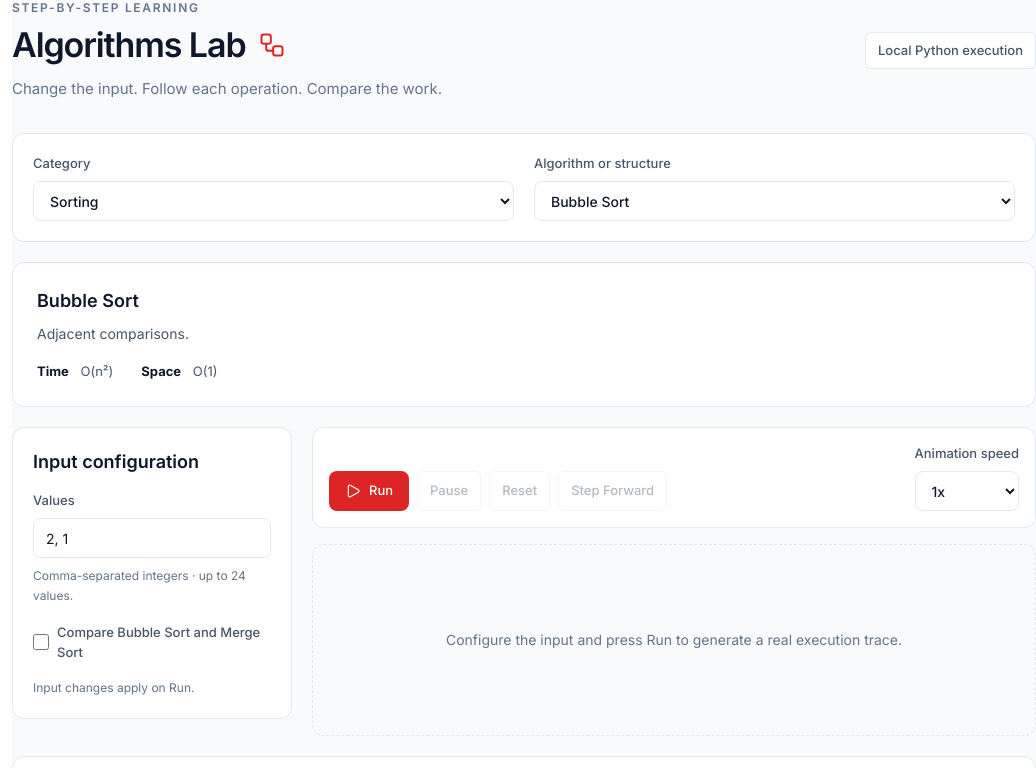
Test: invalid custom inputs do not execute and API errors support retry
Replace the text in the field labelled "Values" with "1, oops" at (152, 538), box [33, 518, 271, 558]
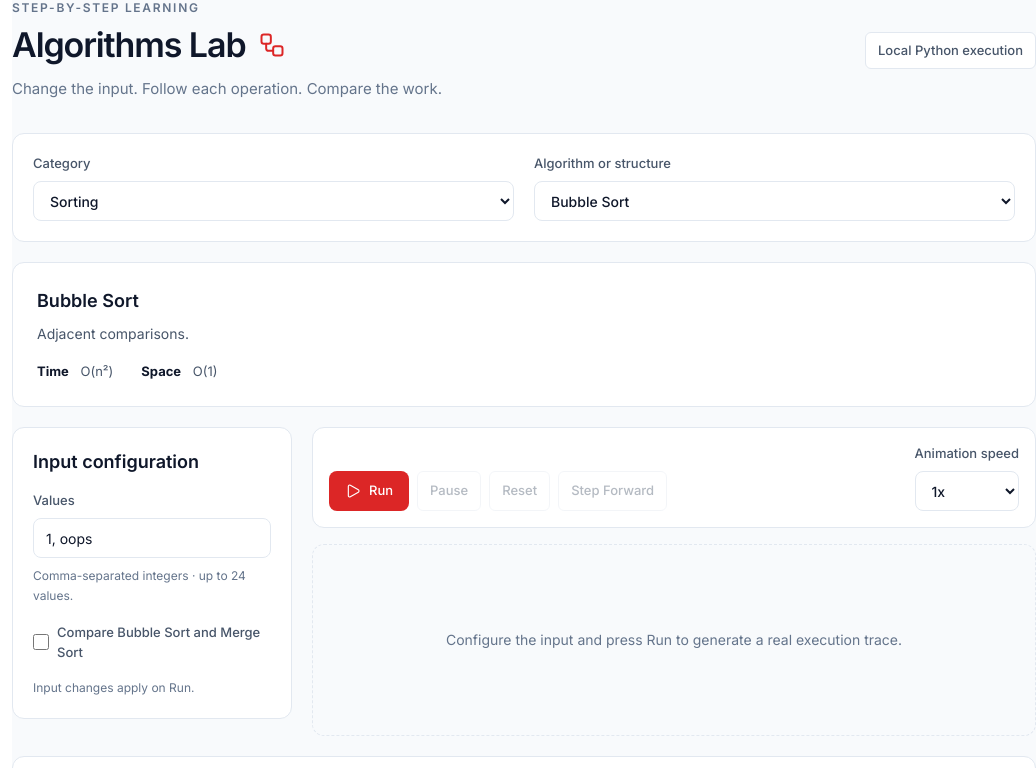
Click the button "Run".
click(369, 491)  # box [329, 471, 409, 511]
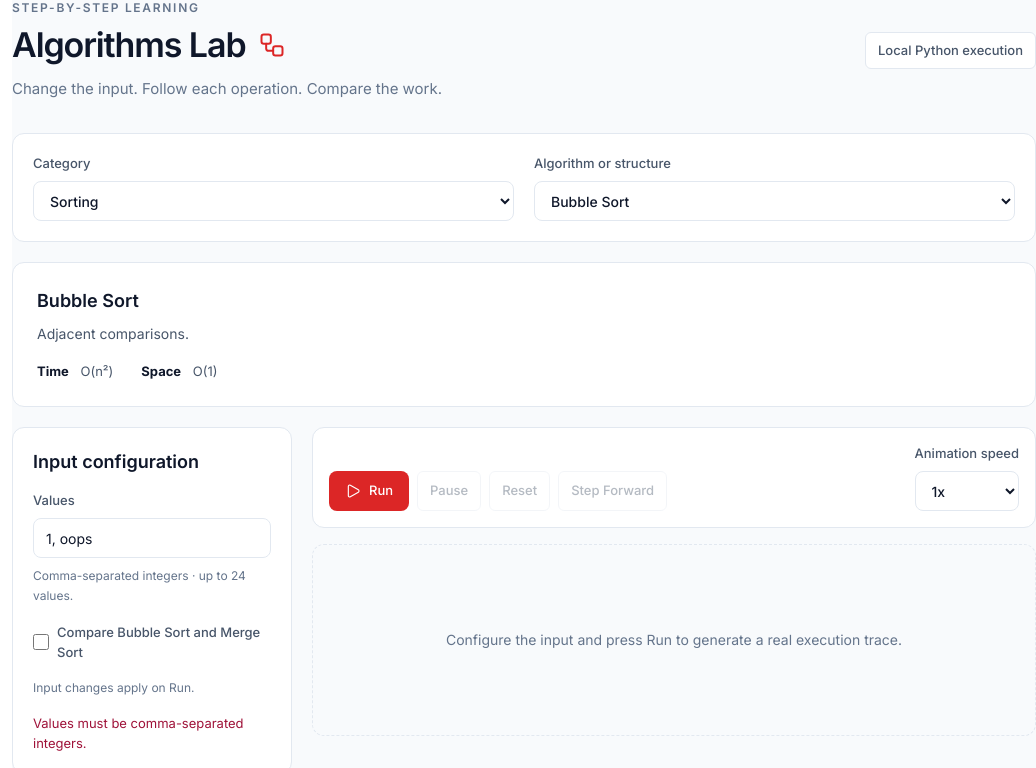
expect the message shows "integers": met, box [33, 715, 244, 750]
Replace the text in the field labelled "Values" with "2, 1" at (152, 538), box [33, 518, 271, 558]
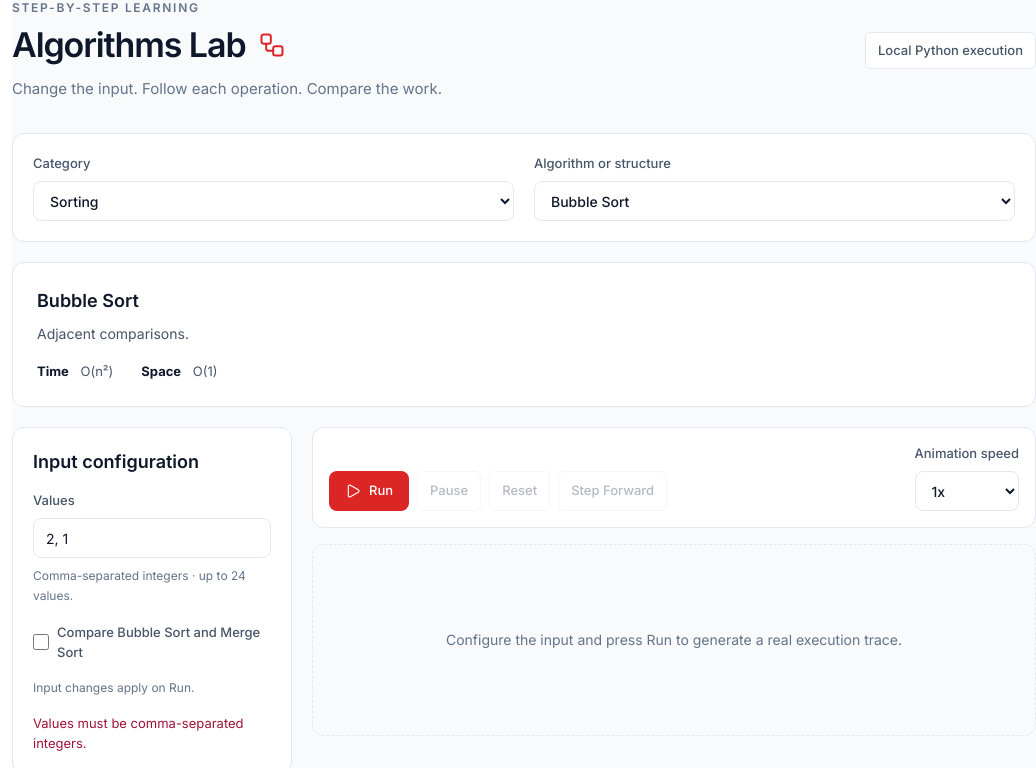
Click the button "Run".
click(369, 491)  # box [329, 471, 409, 511]
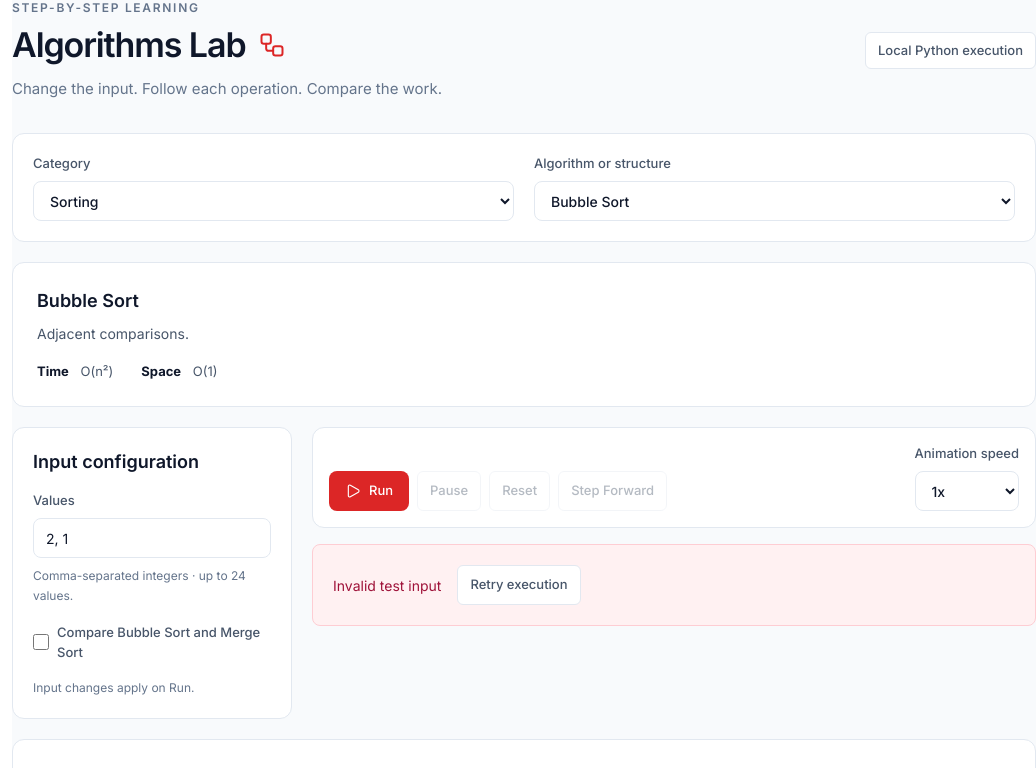
expect the message shows "Invalid test input": met, box [333, 576, 441, 594]
Click the button "Retry execution".
click(519, 585)  # box [457, 565, 580, 605]
(page scrolled)
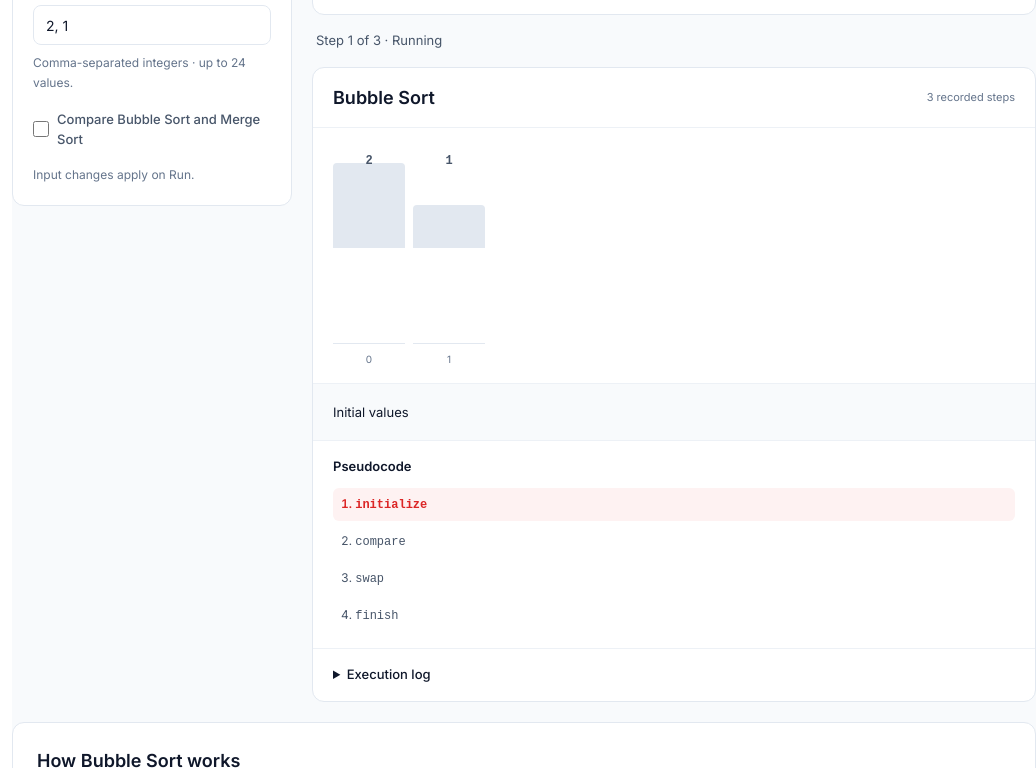
expect the element named "Bubble Sort execution" is shown: met, box [312, 66, 1035, 702]
